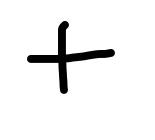plus: (27, 21, 115, 94)
